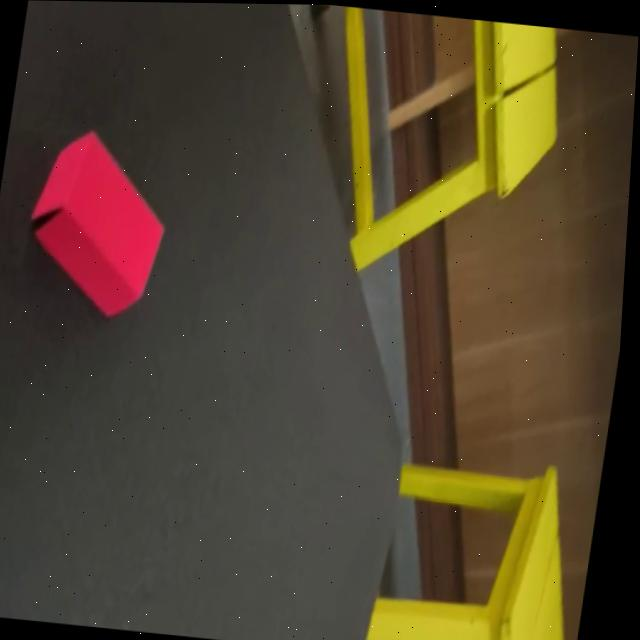red block: (16, 123, 179, 320)
